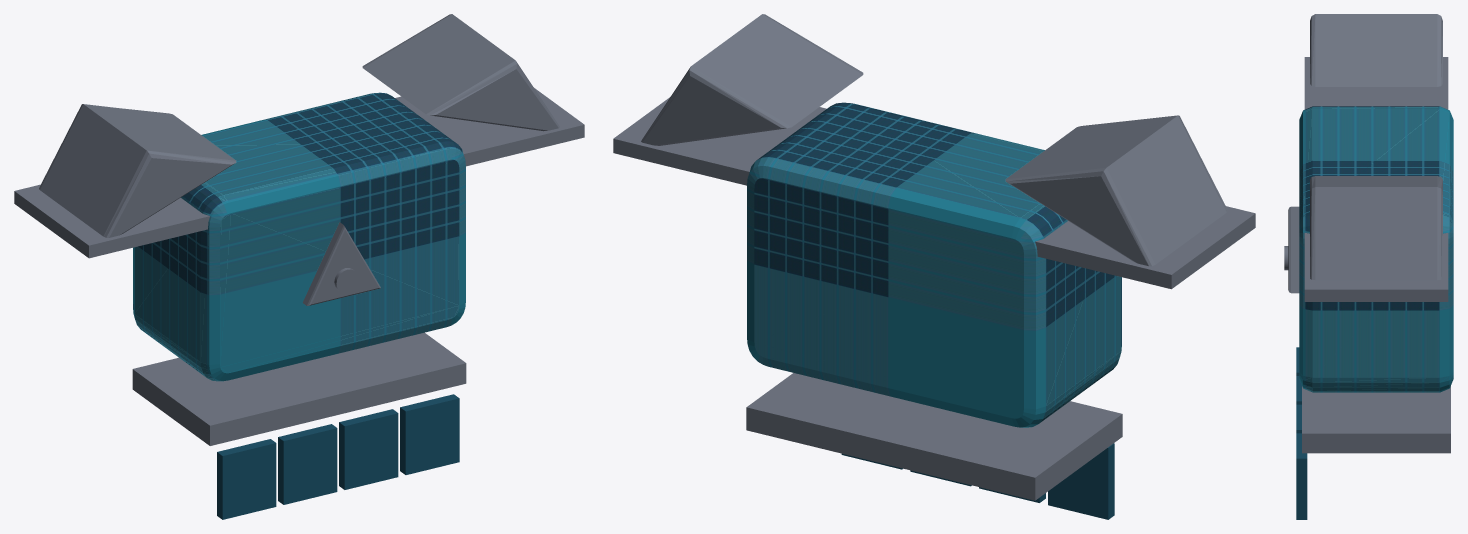
Rendered from eqf_eqsu0.glb.
3 renders of one model, left to right at view 1: azimuth 30°, elevation 25°; view 2: azimuth 150°, elevation 25°; view 3: azimuth 270°, elevation 25°, orthographic. The views are drawn at different scales.
Size of the model in its own units: 4.06 by 2.96 by 1.25.
3 materials, 1 textured.
